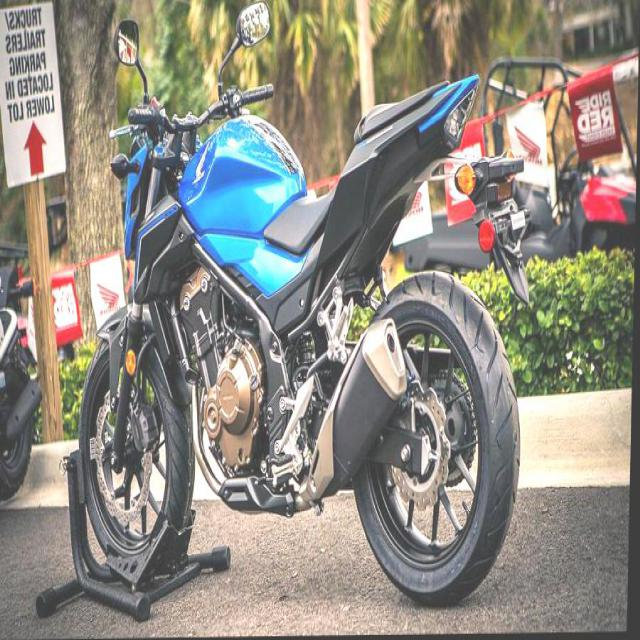CB500F: (74, 0, 530, 617)
